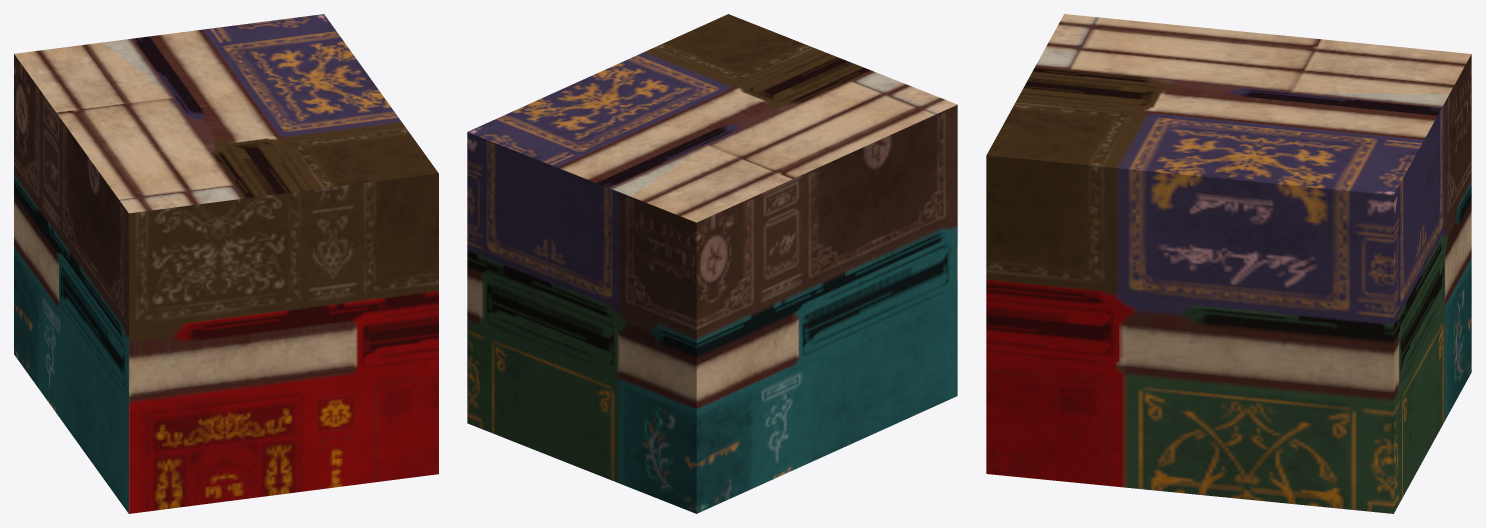
Rendered from sb_obj_DemonsCastle005_books02_col.fbx.
The picture shows the model from 3 angles, left to right: view 1: azimuth 30°, elevation 25°; view 2: azimuth 150°, elevation 25°; view 3: azimuth 270°, elevation 25°; orthographic projection. The views are drawn at different scales.
Visible parts, largest first — view 1: sb_obj_DemonsCastle005_books02_col; view 2: sb_obj_DemonsCastle005_books02_col; view 3: sb_obj_DemonsCastle005_books02_col.
Part boxes in pixels (<box>): sb_obj_DemonsCastle005_books02_col: <box>14,14,438,513</box>; sb_obj_DemonsCastle005_books02_col: <box>467,14,957,513</box>; sb_obj_DemonsCastle005_books02_col: <box>986,14,1471,513</box>.
Size of the model in its own units: 0.3848 by 0.3152 by 0.4349.
1 material, 1 textured.
